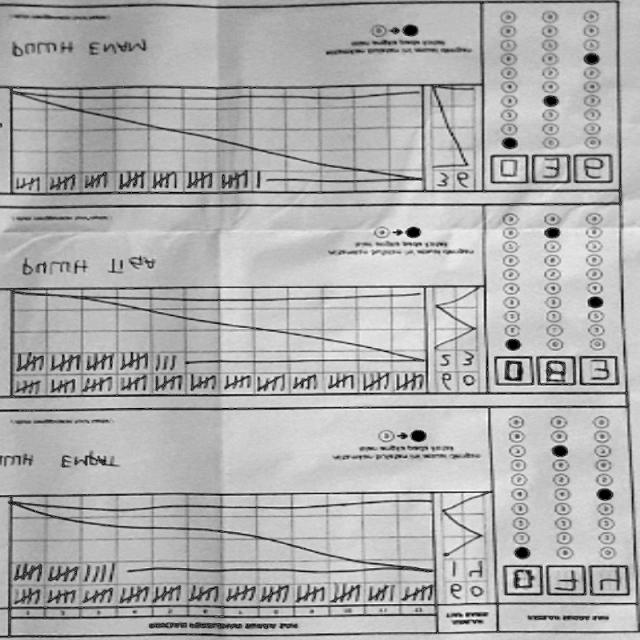Suara: (485, 150, 617, 192), (501, 560, 633, 601), (489, 352, 621, 393)
